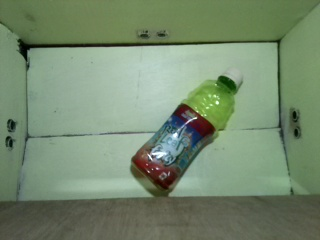bottle: (131, 69, 244, 191)
